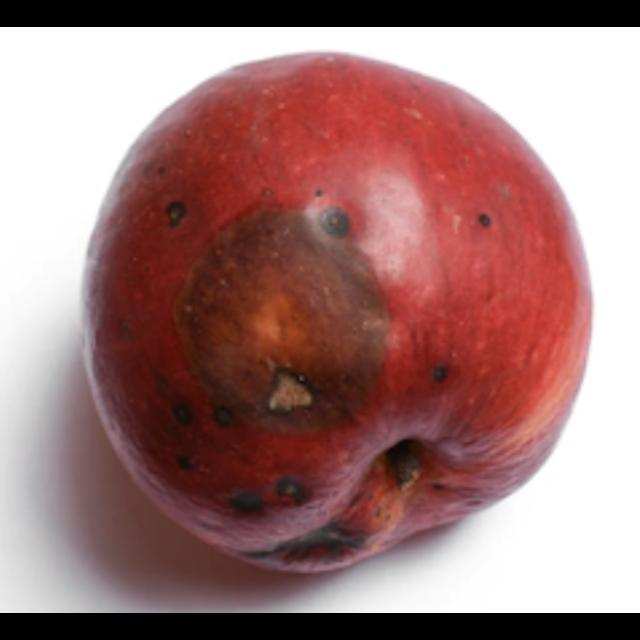Apel Tidak Segar: (72, 44, 600, 582)
